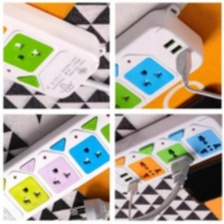three_eye_plug: (0, 114, 110, 223), (0, 0, 103, 99), (113, 6, 208, 111), (113, 114, 223, 199)
